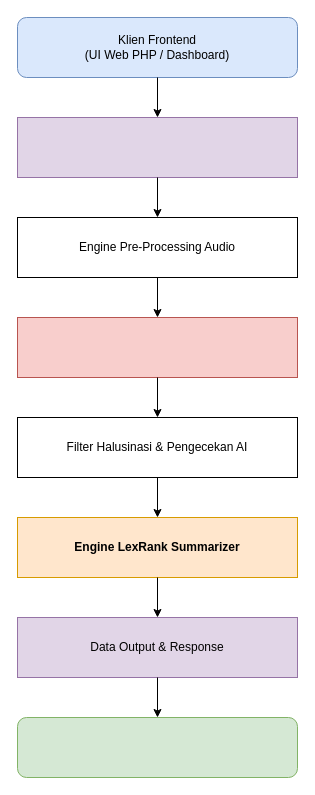
Image size: 315x795. Some labels were removed from this diagram. The shapes that lost their labels are listed below. From the top down, each one's centre as x and y in pixels, then its label:
At (x=157, y=147): "Media Gateway (web_server.py Socket.IO / File Upload)".
At (x=157, y=347): "Engine AI Whisper (STT Core)".
At (x=157, y=747): "Cetak Notulensi Akhir (jsPDF / TXT)".
